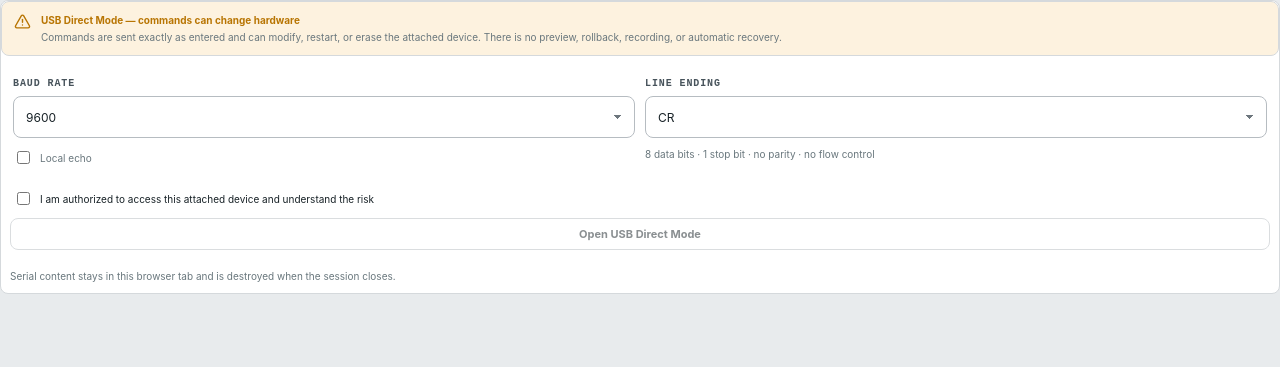
Test case: Manual USB Console › keeps adapter removal sanitized, in memory, and private
Click the checkbox labelled "authorized to access" at (24, 198), box [17,192,30,205]
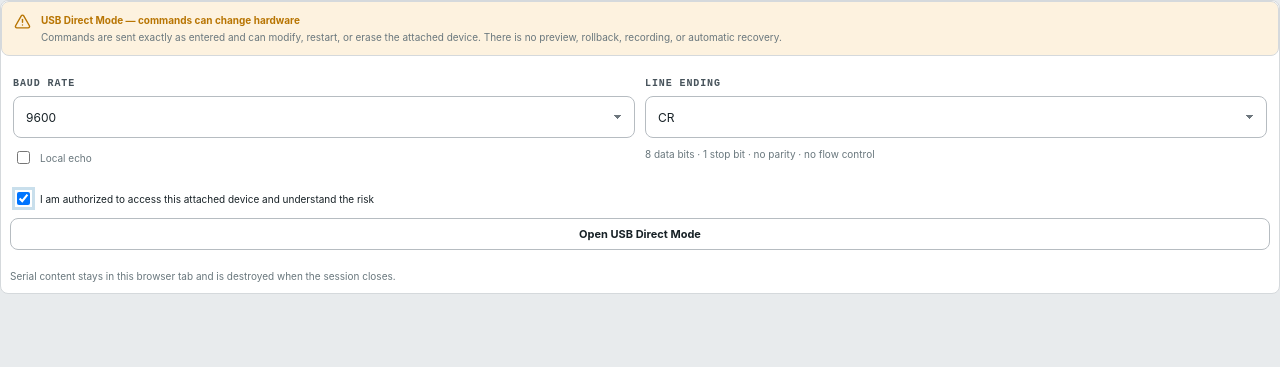
Click the button "Open USB Direct Mode" at (640, 234), box [10,218,1270,250]
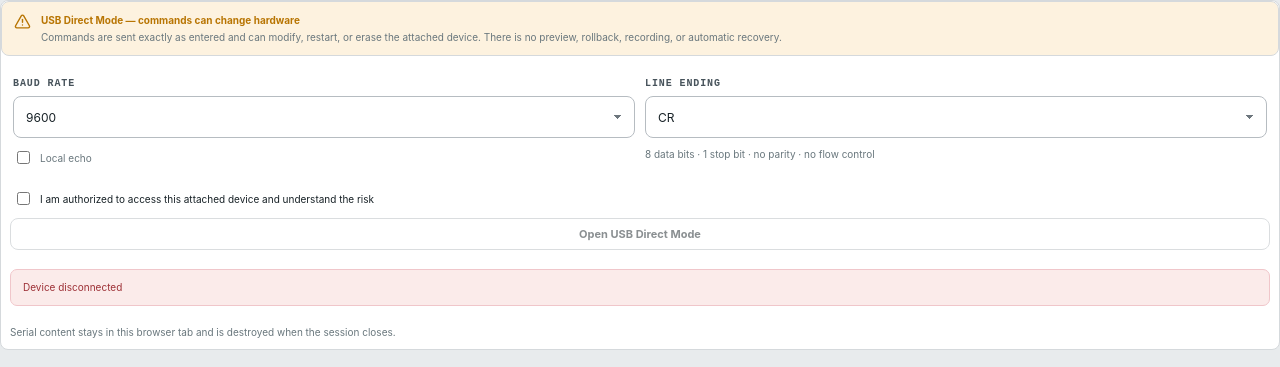
Check: the text "Device disconnected" is shown, box [23,281,122,293]
